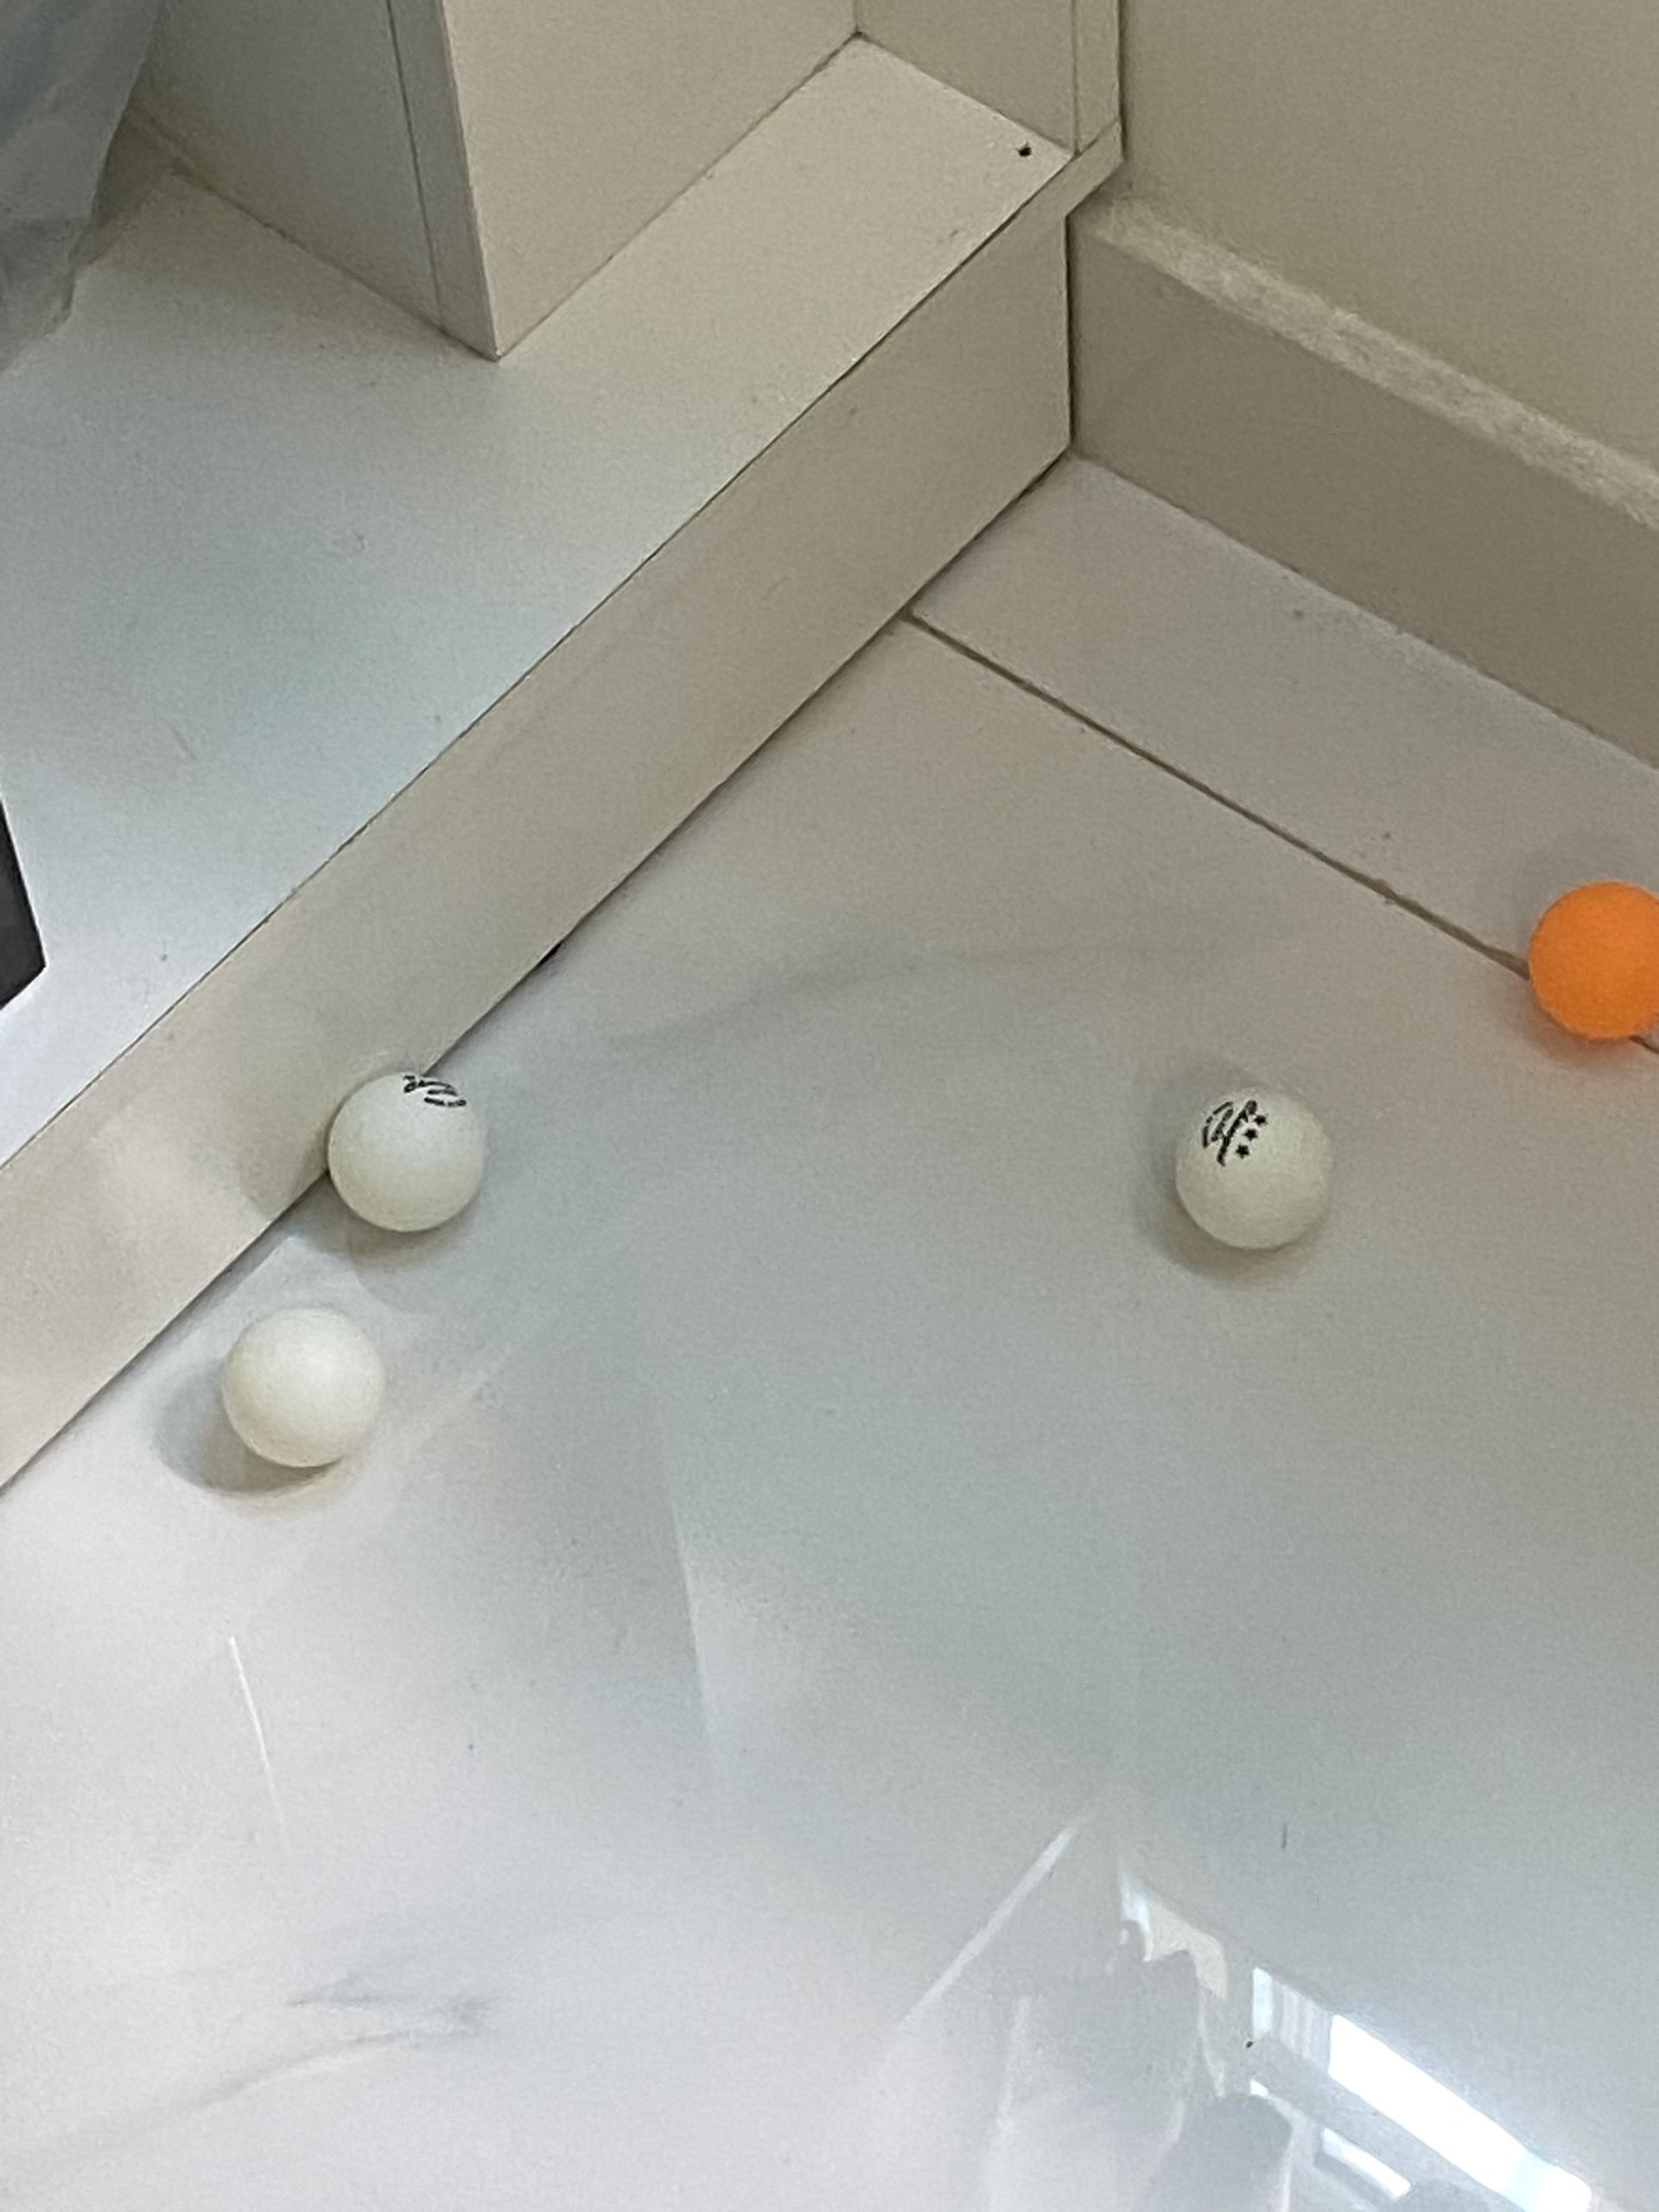oball: (1527, 885, 1659, 1043)
